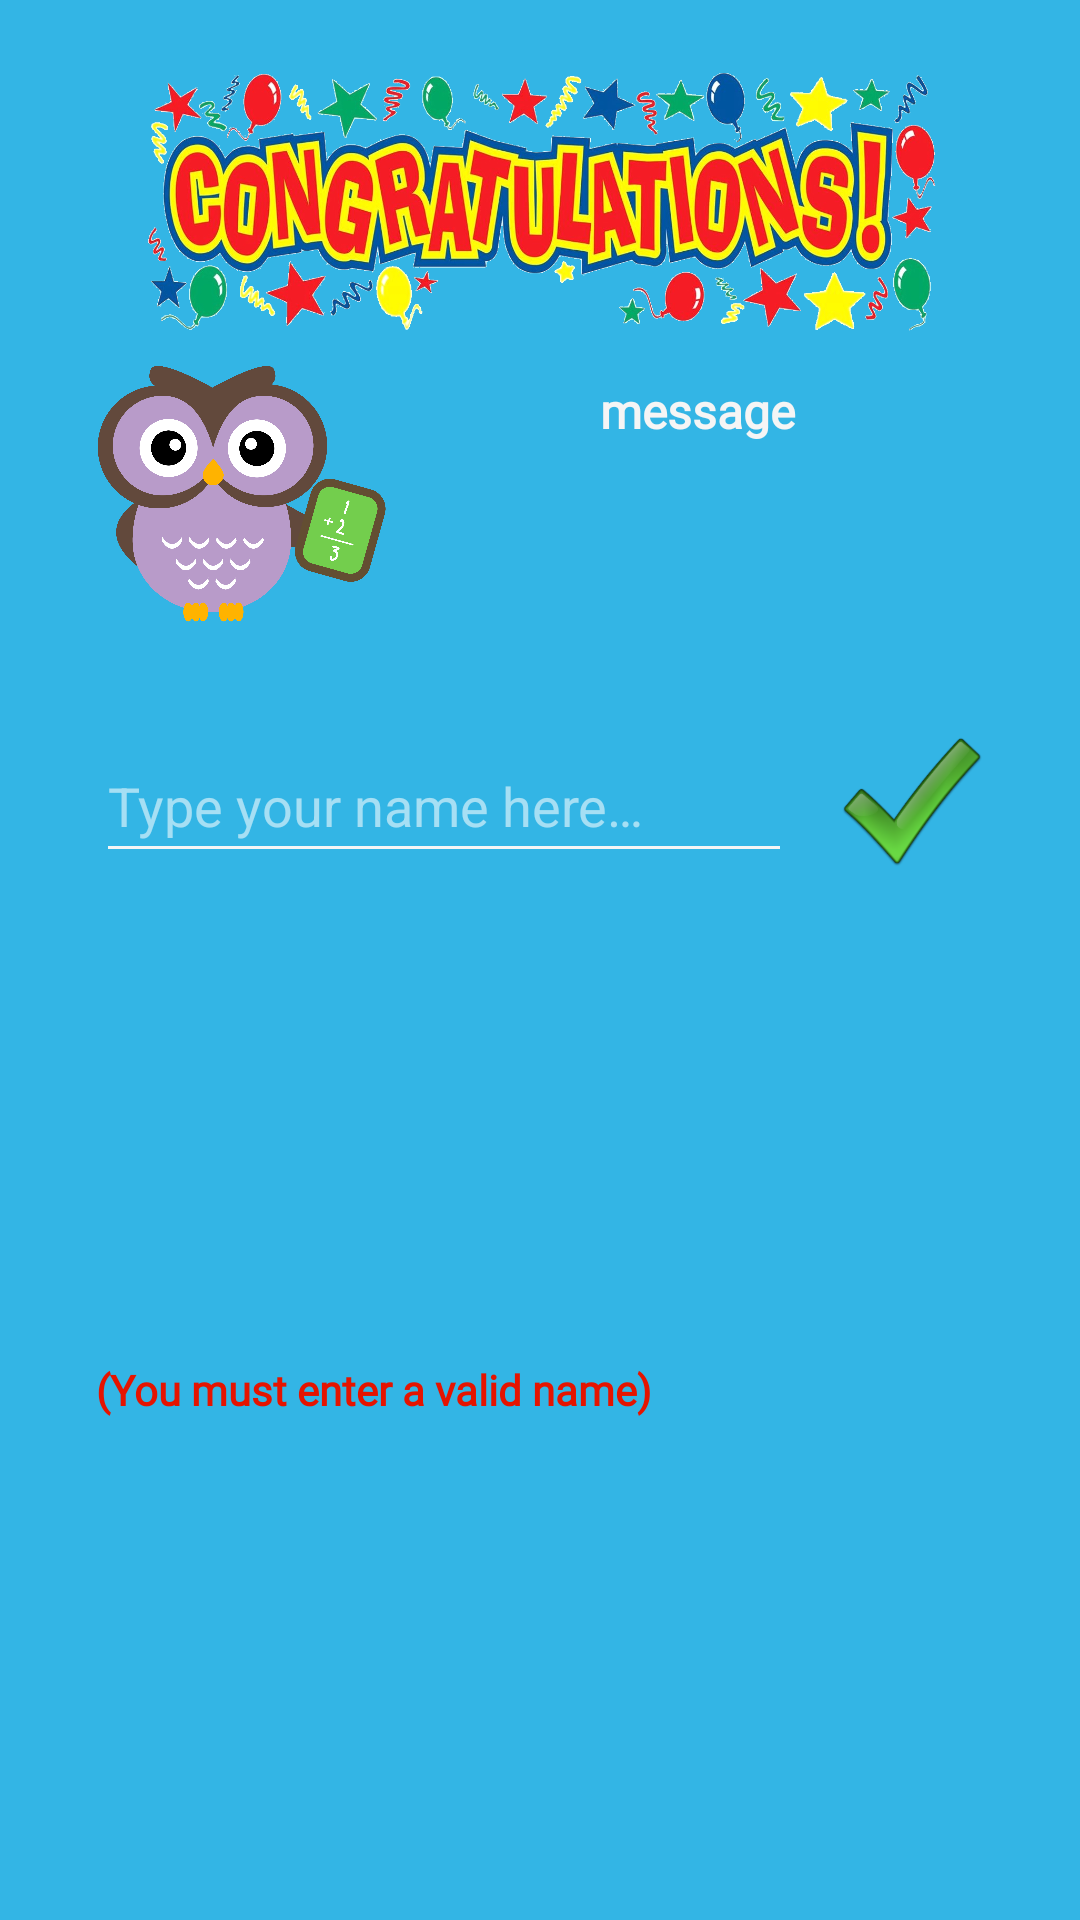

Screen size 1080w x 1920h. Icon name, then its box in pixels as (x1,y1,x2,y2):
check: (843,738,981,865)
